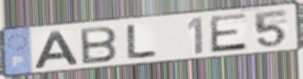1: (186, 16, 204, 56)
5: (252, 8, 290, 49)
A: (32, 29, 81, 70)
B: (78, 25, 119, 66)
E: (207, 12, 249, 55)
L: (125, 23, 160, 61)
